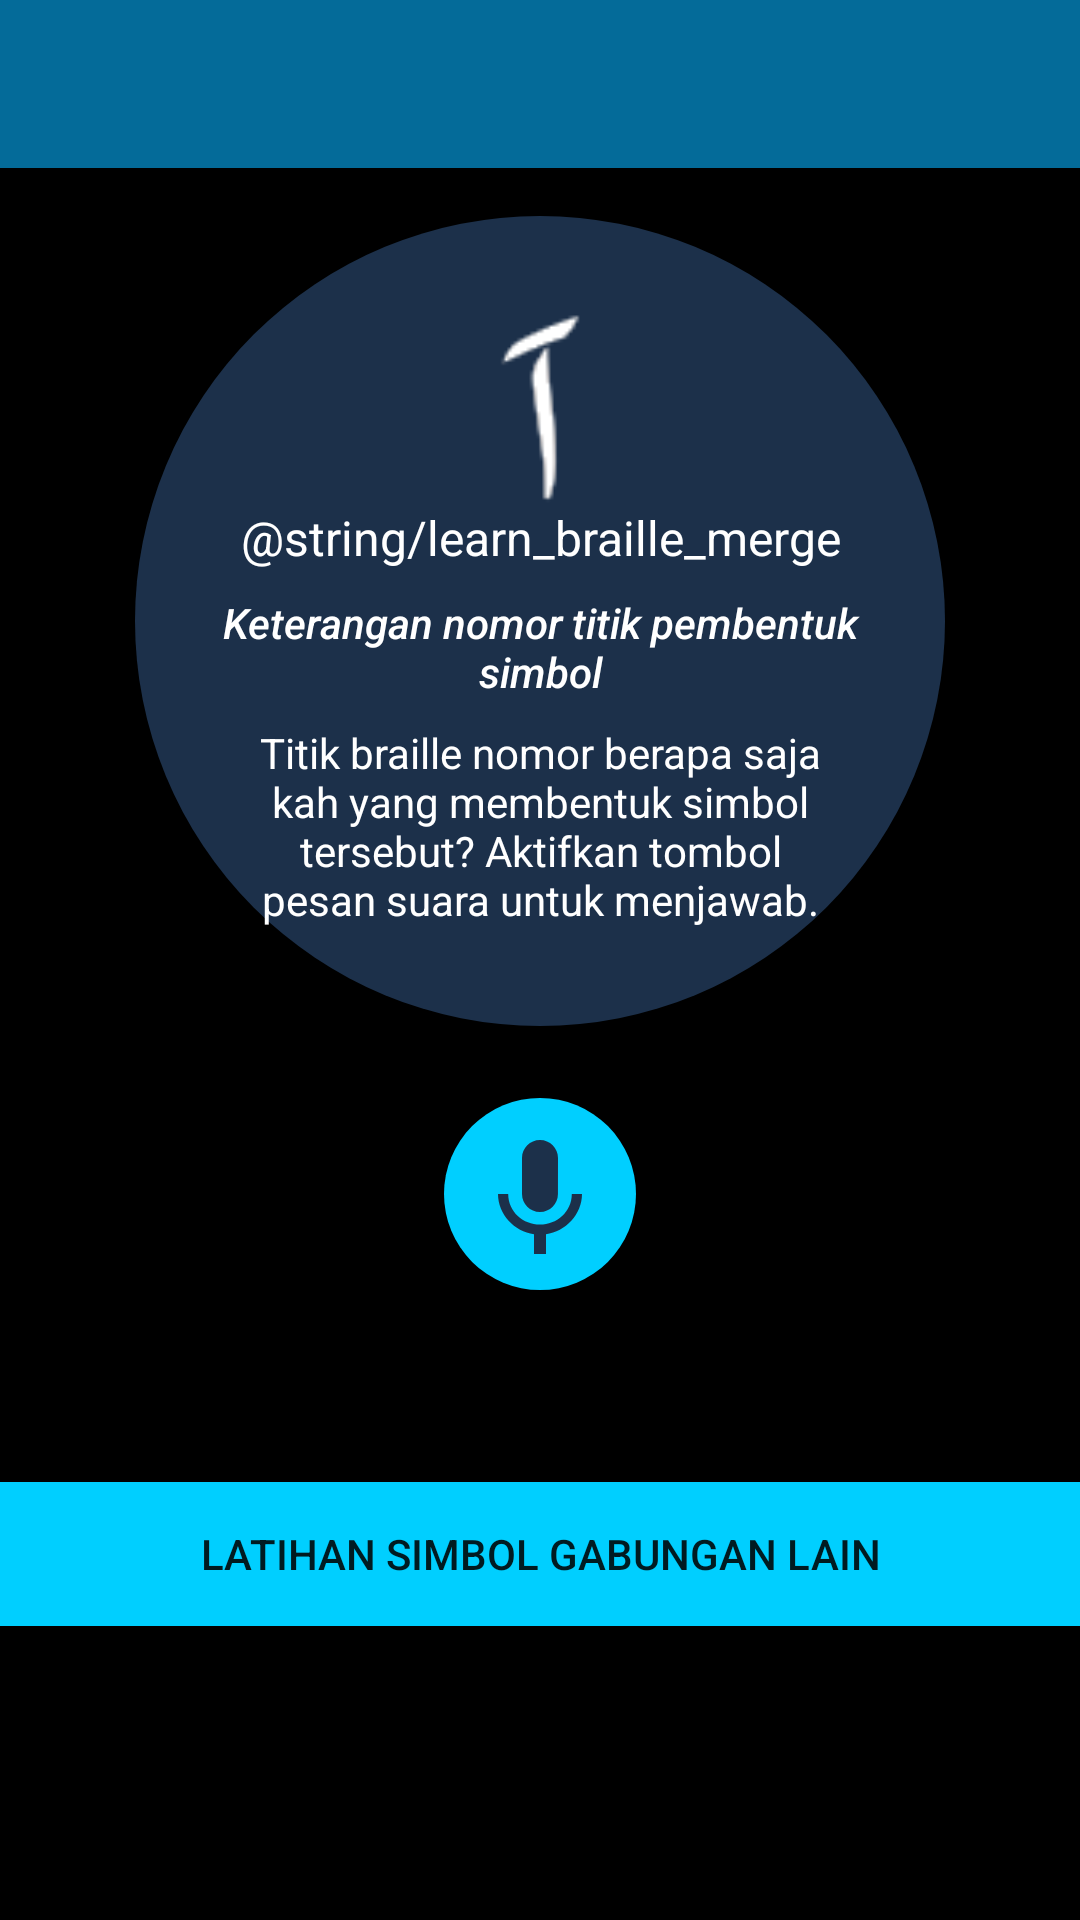

Icons on this 1080px x 1920px Android screen, each with its box as box=[x1, y1, x2, y2]:
alif fathah: box=[502, 315, 579, 500]
Pesan Suara: box=[444, 1098, 636, 1290]
